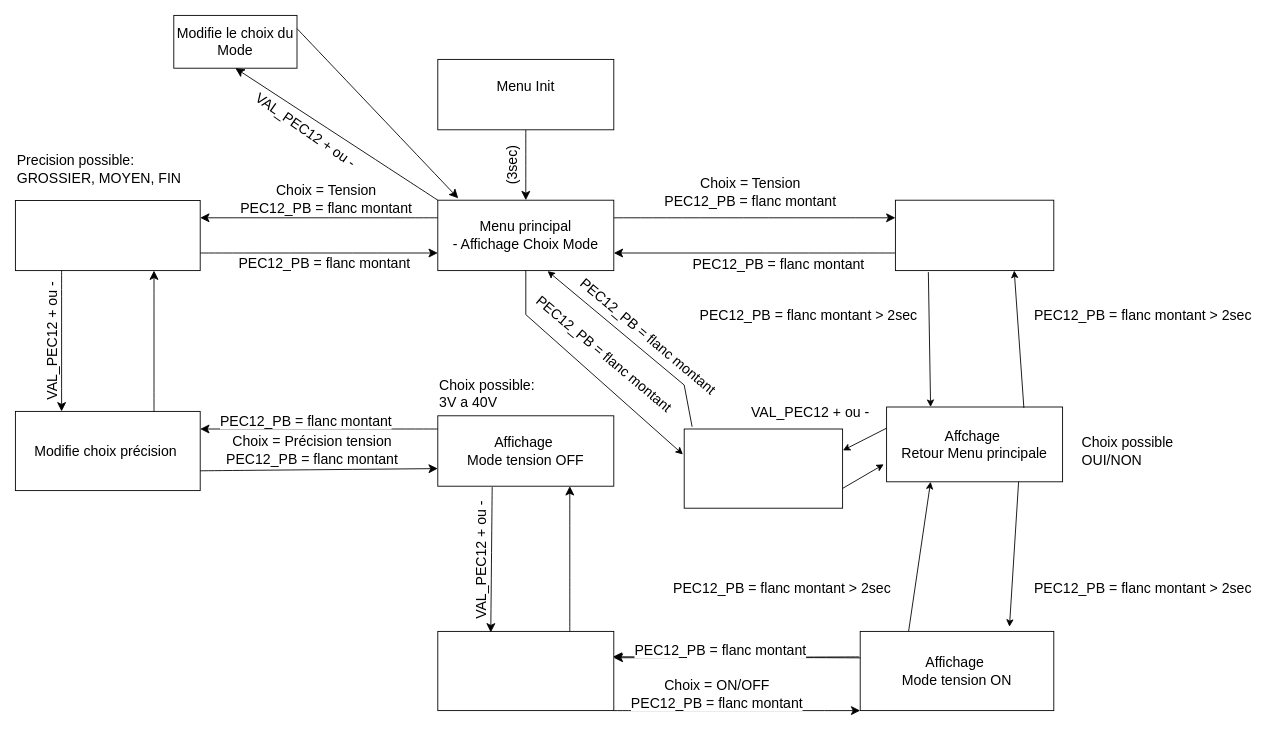
Image size: 1266x730. Some labels were removed from this diagram. Each missing label, with the box of its shape:
Affichage Mode courant: (895, 199, 1054, 271)
Confirmation/annulation retour menu principal: (683, 428, 843, 508)
Menu - Affichage Choix Précision: (15, 200, 200, 271)
Modifie tension souhaité: (437, 631, 614, 711)
